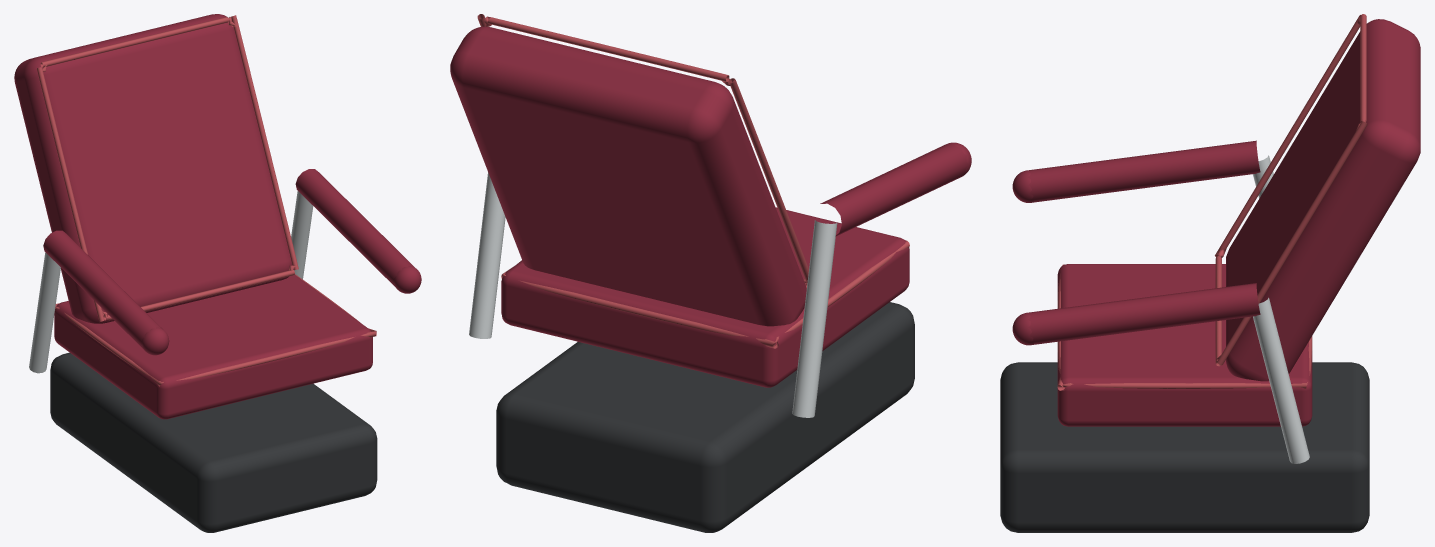
Rendered from barbershop-and-hair-salon-backwash-chair-42aa49eb__29635.glb.
The picture shows the model from 3 angles, left to right: view 1: azimuth 30°, elevation 25°; view 2: azimuth 150°, elevation 25°; view 3: azimuth 270°, elevation 25°; orthographic projection. The views are drawn at different scales.
Parts seen in each view (by area): view 1: backwash-chair; view 2: backwash-chair; view 3: backwash-chair.
Part boxes in pixels (box(x1,y1,x2,y2)): backwash-chair: box(14, 14, 421, 532); backwash-chair: box(450, 14, 971, 532); backwash-chair: box(1000, 14, 1420, 532).
Size of the model in its own units: 0.9 by 1.13 by 1.02.
